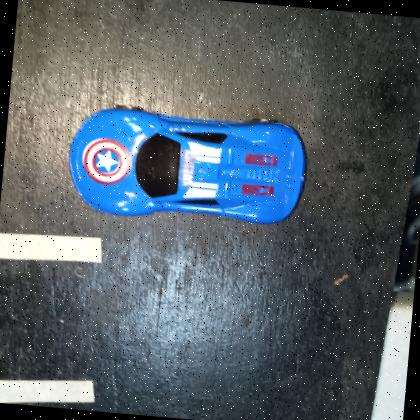Car: (68, 107, 306, 223)
